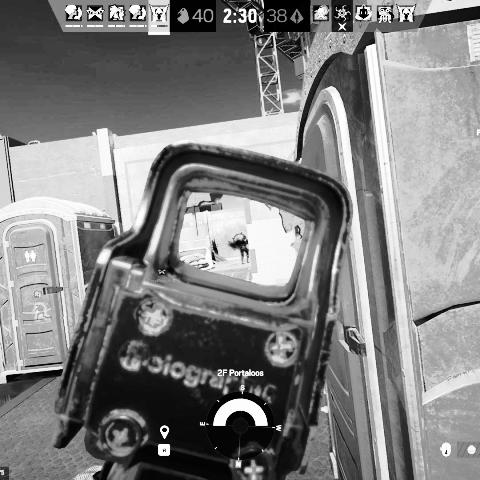Character: (239, 234, 250, 265)
Friend_label: (147, 268, 178, 284), (26, 290, 49, 306)
Head: (243, 235, 246, 239)
